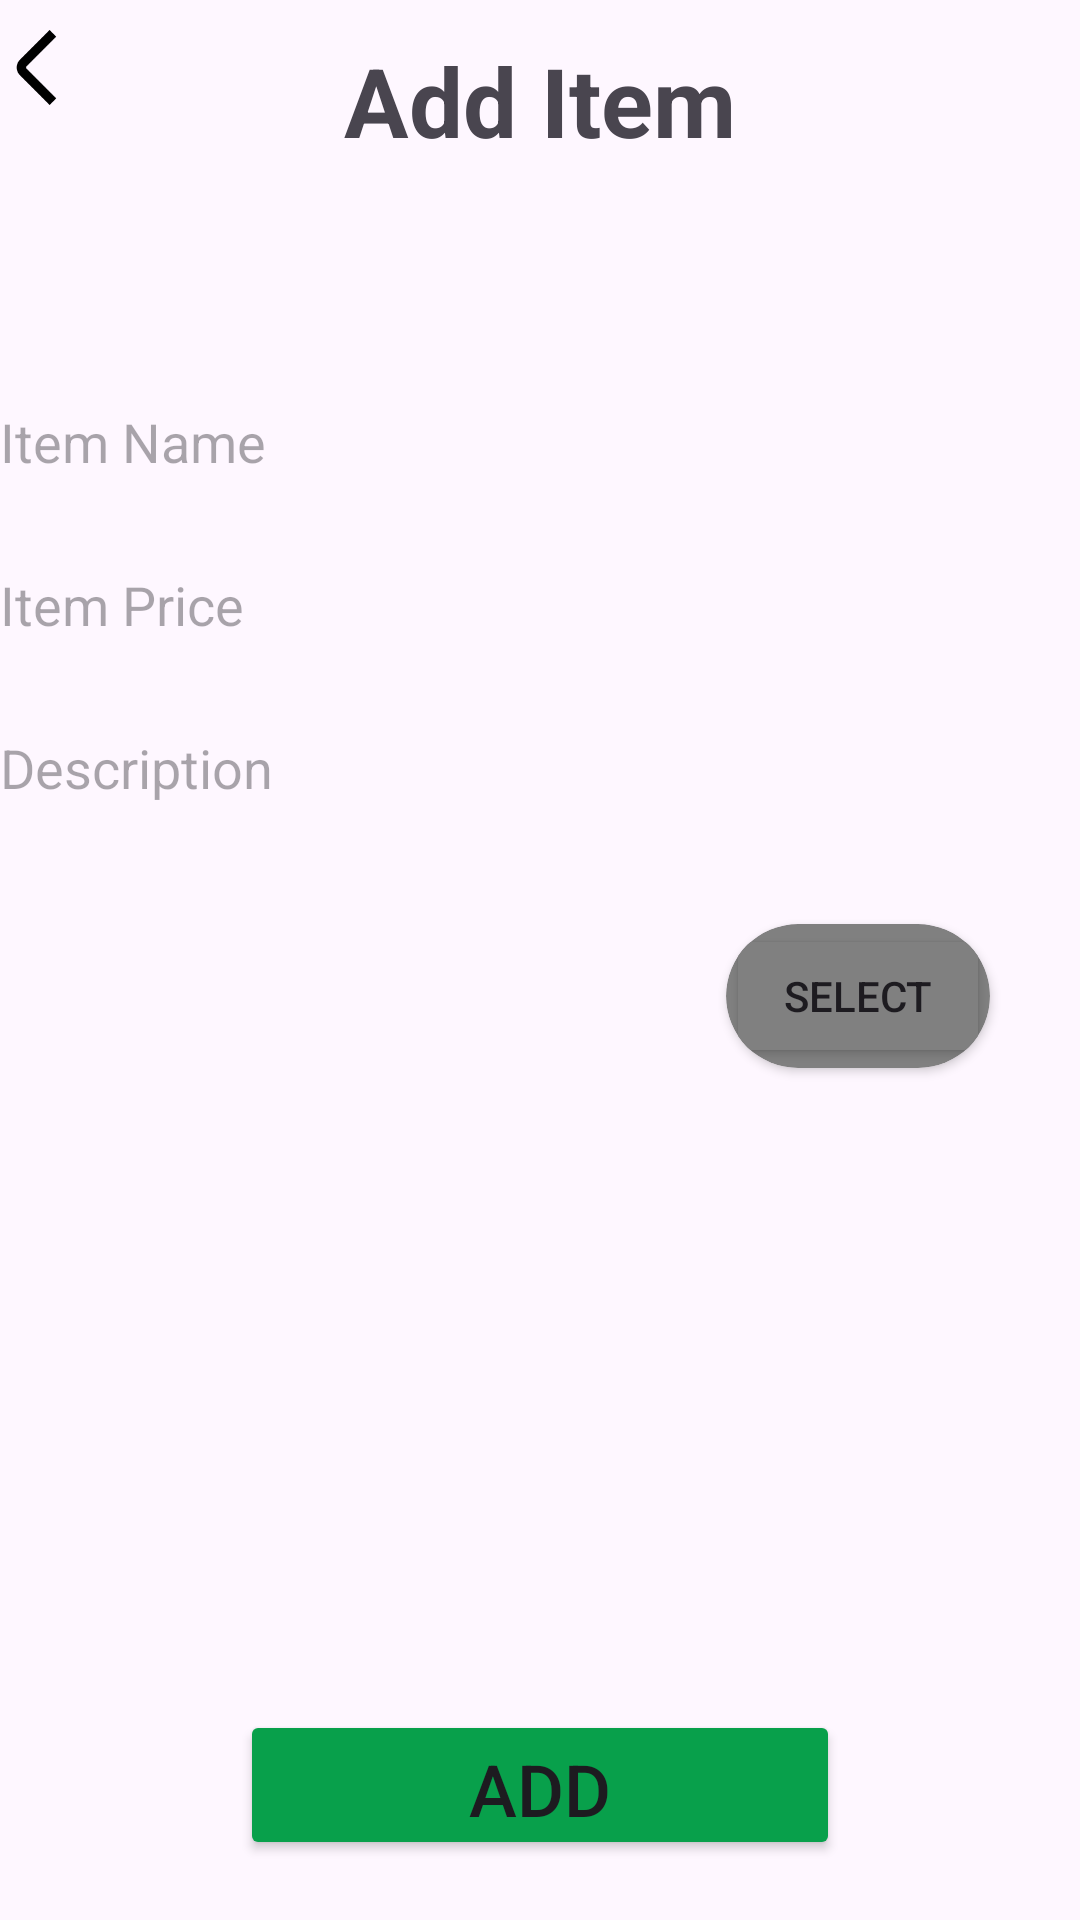

Named icons in this screenshot (1080 × 1920) and their centers, point (x, y):
back: point (36, 67)
